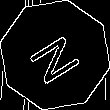N_NE: (23, 25, 87, 85)
